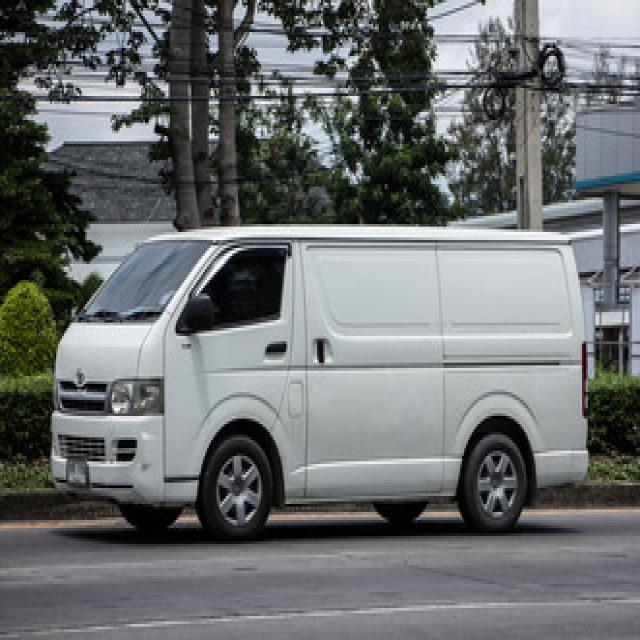van: (50, 227, 586, 536)
